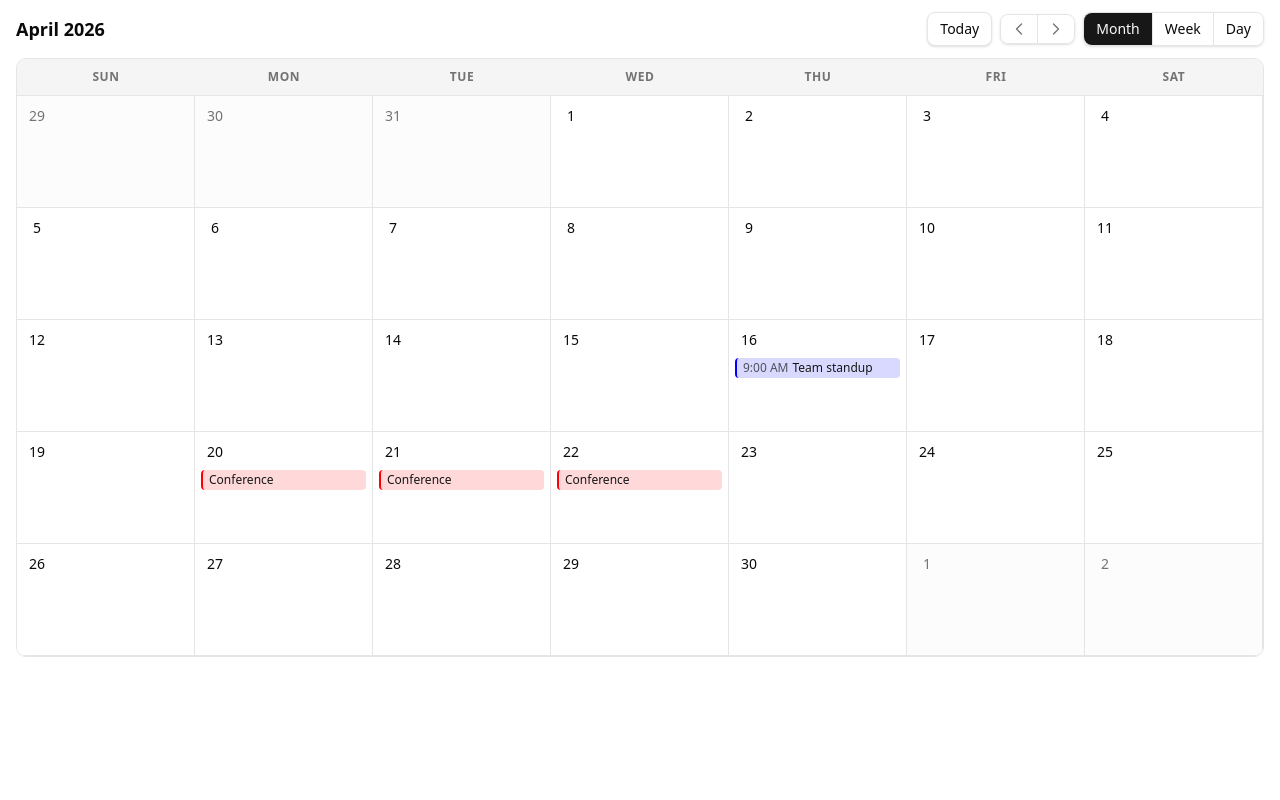
Test: Calendar component › navigates to previous month
Click the button named "Previous" at coordinates (1019, 29), box x1=1001 y1=15 x2=1037 y2=43
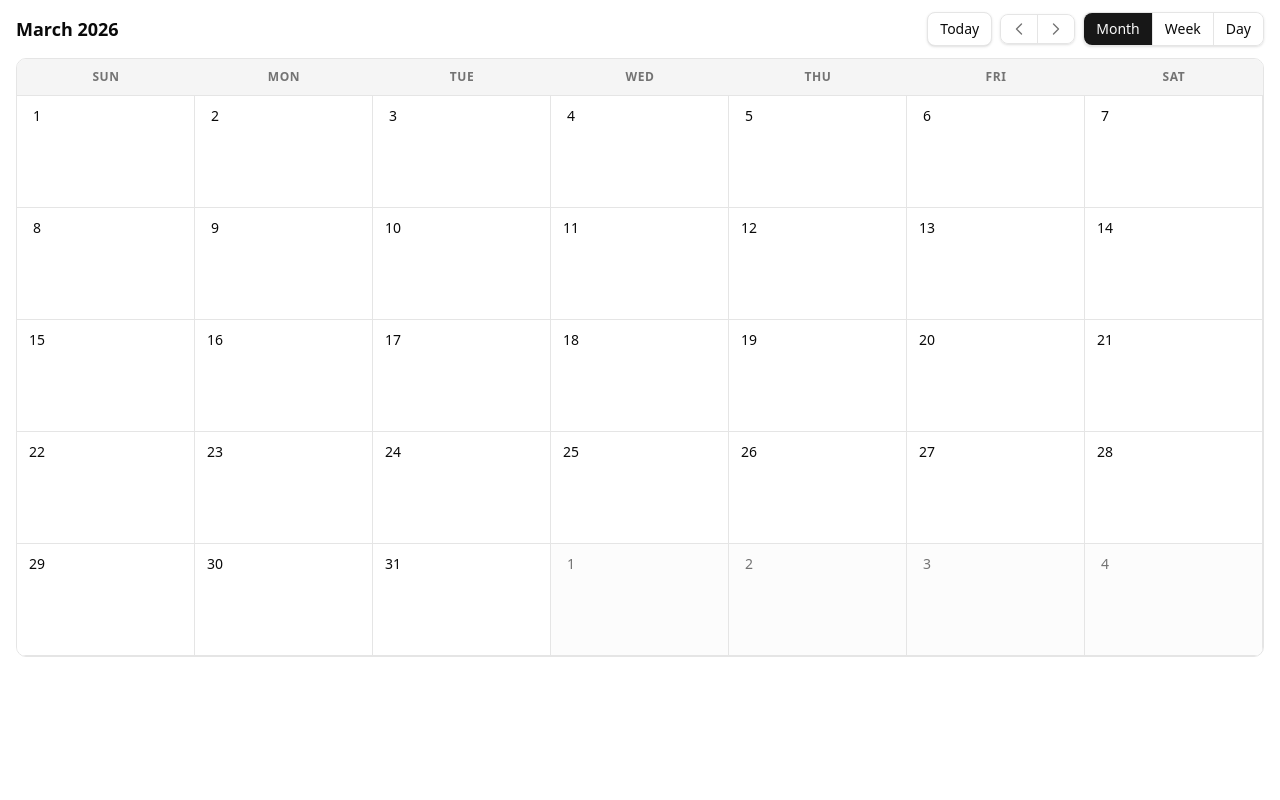
Expected: the heading "March 2026" is shown, x1=16 y1=15 x2=119 y2=43
